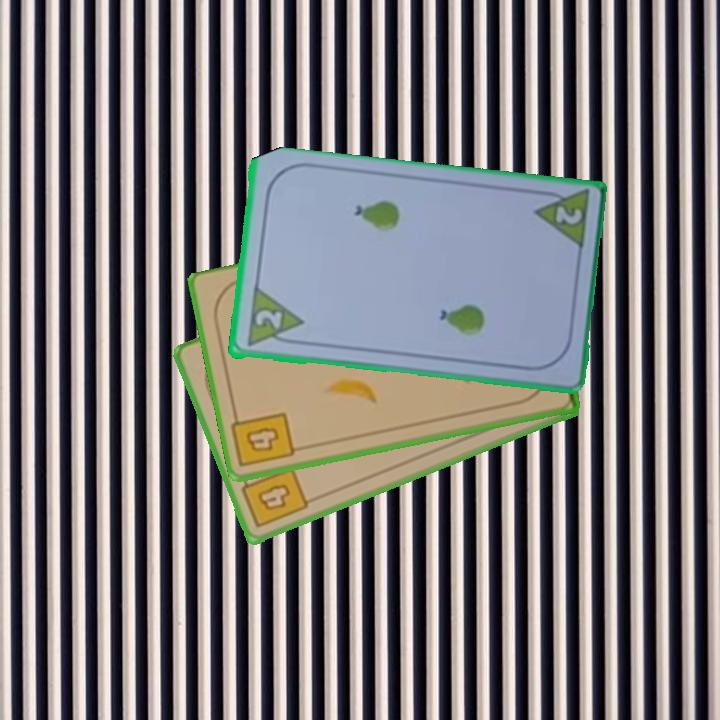2p: (529, 187, 592, 254), (251, 306, 285, 333)
4b: (237, 464, 311, 531), (229, 408, 298, 470)
